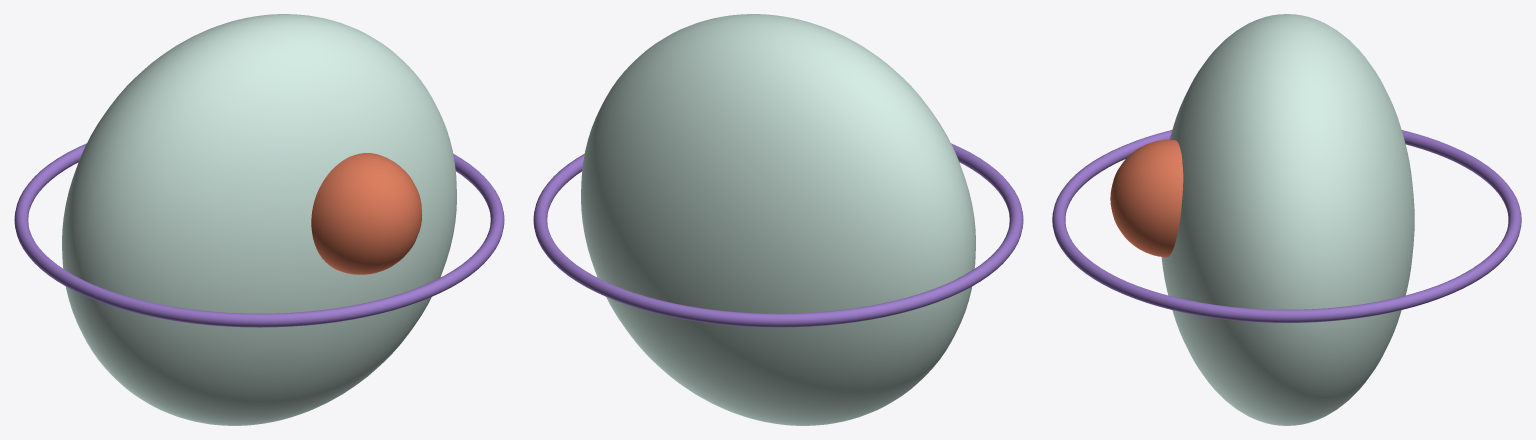
The model's file is egg-cell.glb.
The picture shows the model from 3 angles, left to right: view 1: azimuth 30°, elevation 25°; view 2: azimuth 150°, elevation 25°; view 3: azimuth 270°, elevation 25°; orthographic projection. The views are drawn at different scales.
Parts seen in each view (by area): view 1: zona-pellucida-protective-coat, egg-nucleus-half-dna-set, single-entry-protection-ring; view 2: zona-pellucida-protective-coat, single-entry-protection-ring; view 3: zona-pellucida-protective-coat, single-entry-protection-ring, egg-nucleus-half-dna-set.
Boxes of the visible parts, x1=… form: zona-pellucida-protective-coat: x1=62, y1=14, x2=456, y2=425; egg-nucleus-half-dna-set: x1=311, y1=153, x2=421, y2=274; single-entry-protection-ring: x1=14, y1=143, x2=504, y2=327; zona-pellucida-protective-coat: x1=581, y1=14, x2=975, y2=425; single-entry-protection-ring: x1=533, y1=143, x2=1023, y2=327; zona-pellucida-protective-coat: x1=1161, y1=14, x2=1414, y2=425; single-entry-protection-ring: x1=1052, y1=130, x2=1521, y2=322; egg-nucleus-half-dna-set: x1=1110, y1=140, x2=1183, y2=257.
Size of what is drawn, in the model's own units: 1.28 by 1.12 by 1.28.
